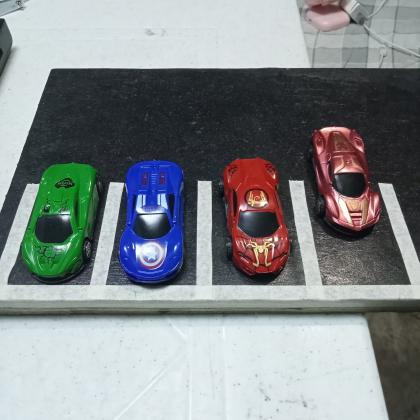Car: (19, 162, 102, 285), (217, 157, 291, 277), (118, 158, 186, 284), (308, 123, 381, 234)
